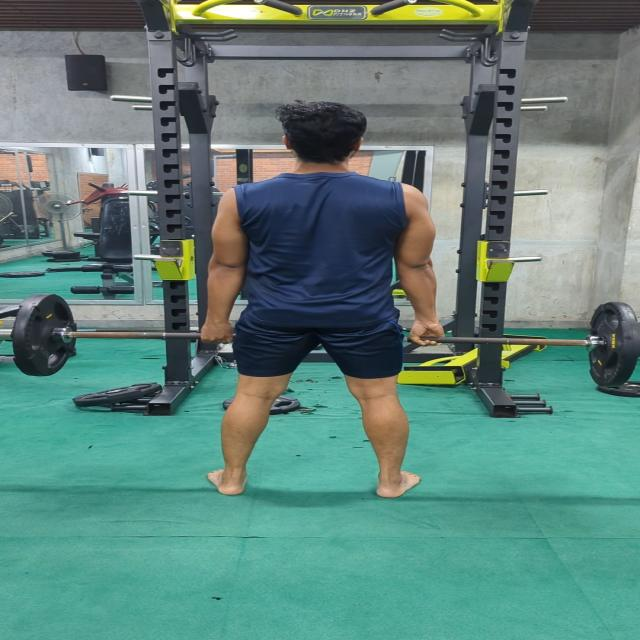Normal_Deadlifts: (192, 100, 446, 499)
